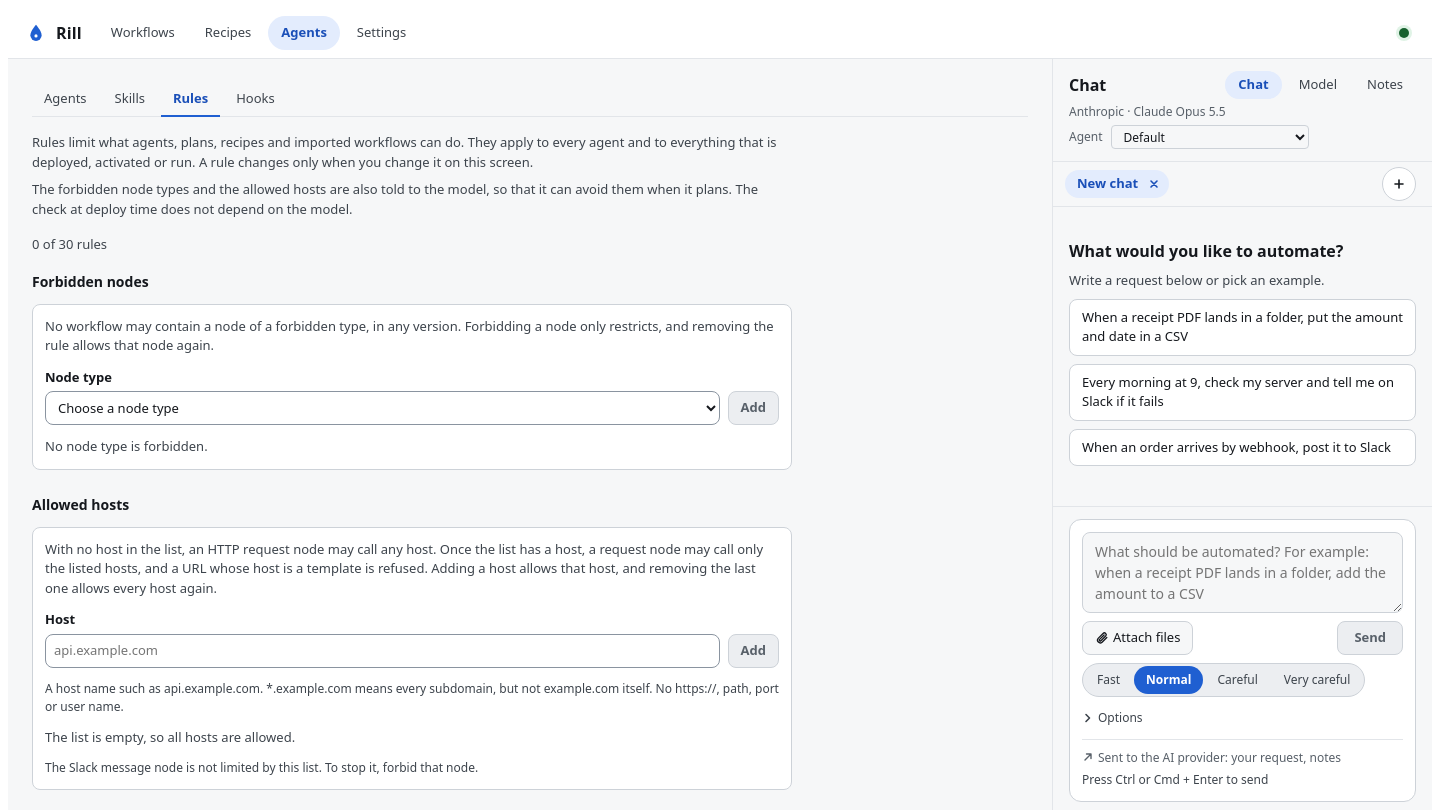
the Agents tab of the app › offers the node types of the engine catalog and sends the rule to the engine
The image size is (1440, 810).
Select "HTTP request (http.request)" in the dropdown labelled "Node type" at (382, 408), box x1=45 y1=391 x2=720 y2=425
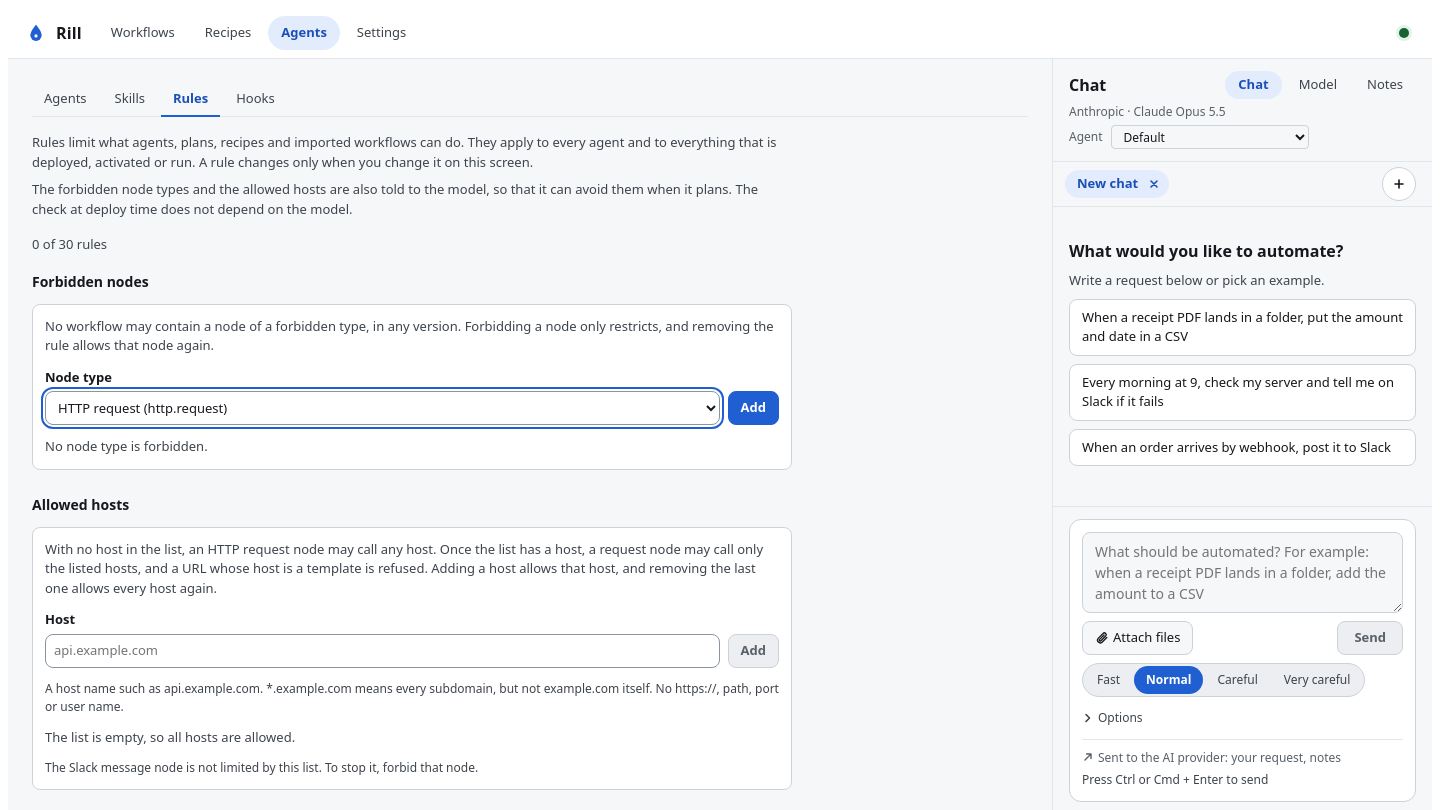
Click the 1st button "Add".
click(753, 408)  # box x1=728 y1=391 x2=779 y2=425
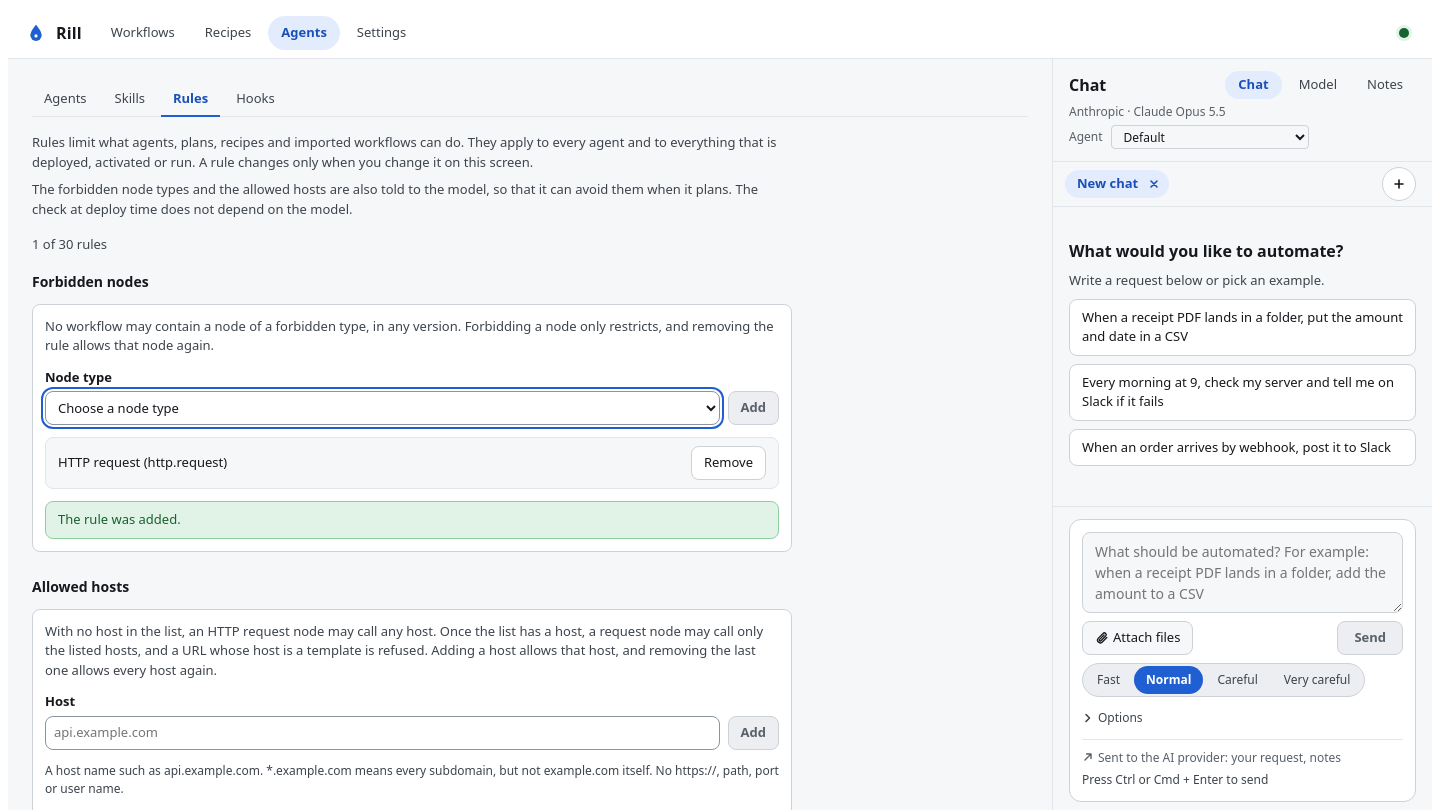
Expected: the list named "Forbidden node types" is shown, x1=45 y1=437 x2=779 y2=489
